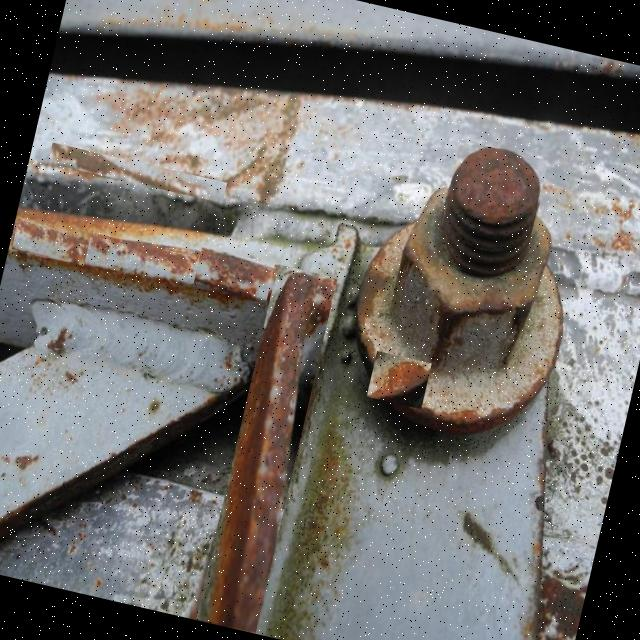Corrosion: (0, 41, 640, 640), (330, 122, 600, 453), (428, 136, 550, 284)
